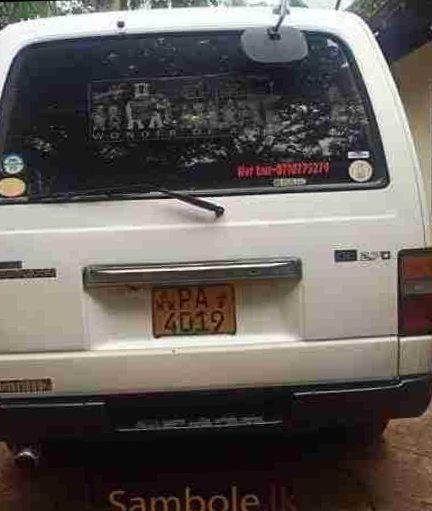van: (0, 6, 432, 460)
